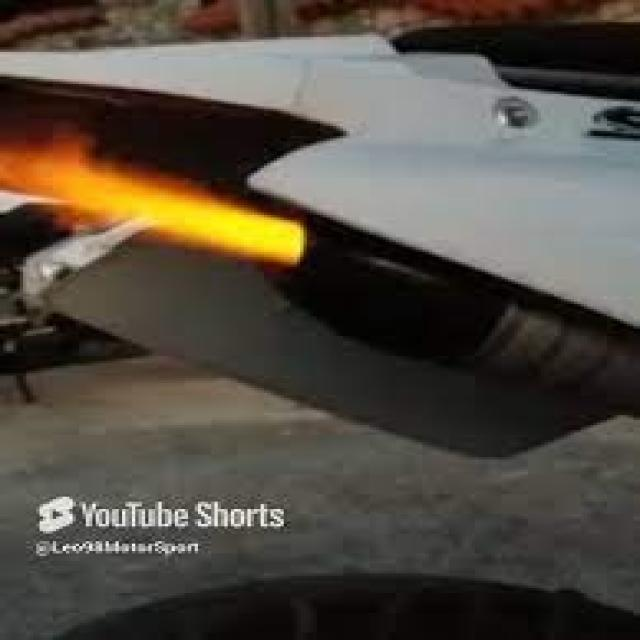fire: (0, 120, 304, 264)
